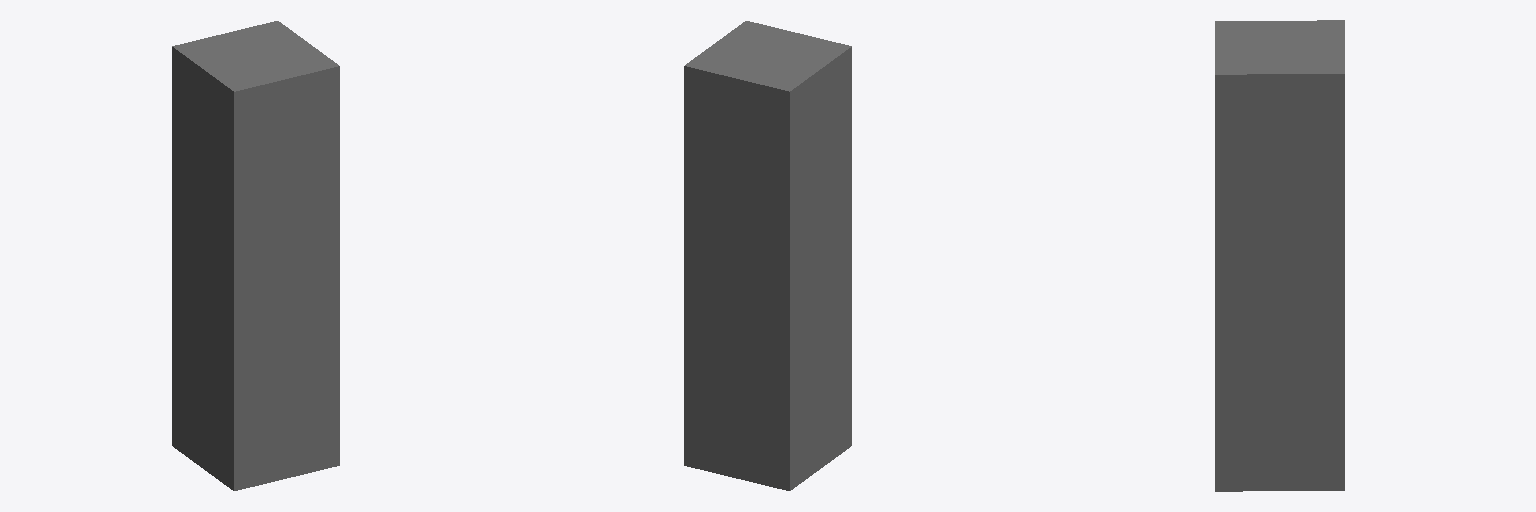
robot.urdf — d435:
<?xml version="1.0" ?>
<!-- =================================================================================== -->
<!-- |    This document was autogenerated by xacro from xacro/ur10_robot.urdf.xacro    | -->
<!-- |    EDITING THIS FILE BY HAND IS NOT RECOMMENDED                                 | -->
<!-- =================================================================================== -->
<robot name="d435">
  <material name="aluminum">
    <color rgba="0.5 0.5 0.5 1"/>
  </material>
  <link name="world"/>
  <!-- camera body, with origin at bottom screw mount -->
  <joint name="d435_joint" type="fixed">
    <origin rpy="-1.57 0 0" xyz="0.06 -0.01 0.0"/>
    <parent link="world"/>
    <child link="d435_bottom_screw_frame"/>
  </joint>
  <link name="d435_bottom_screw_frame">
    <inertial>
      <origin rpy="0 0 0" xyz="0 0 0"/>
      <mass value="0.001"/>
      <inertia ixx="1E-5" ixy="0" ixz="0" iyy="1E-5" iyz="-0" izz="1E-5"/>
    </inertial>
  </link>
  <joint name="d435_link_joint" type="fixed">
    <origin rpy="0 0 0" xyz="0 0.0175 0.0125"/>
    <parent link="d435_bottom_screw_frame"/>
    <child link="d435_link"/>
  </joint>
  <link name="d435_link">
    <visual>
      <origin rpy="1.5707963267948966 0 1.5707963267948966" xyz="0.0149 -0.0175 0"/>
      <geometry>
        <mesh filename="package://realsense2/visual/d435.dae"/>
      </geometry>
      <material name="aluminum"/>
    </visual>
    <collision>
      <origin rpy="0 0 0" xyz="0 -0.0175 0"/>
      <geometry>
        <box size="0.02505 0.09 0.025"/>
      </geometry>
    </collision>
    <inertial>
      <!-- The following are not reliable values, and should not be used for modeling -->
      <mass value="0.564"/>
      <origin xyz="0 0 0"/>
      <inertia ixx="0.003881243" ixy="0.0" ixz="0.0" iyy="0.000498940" iyz="0.0" izz="0.003879257"/>
    </inertial>
  </link>
  <!-- camera depth joints and links -->
  <joint name="d435_depth_joint" type="fixed">
    <origin rpy="0 0 0" xyz="0 0 0"/>
    <parent link="d435_link"/>
    <child link="d435_depth_frame"/>
  </joint>
  <link name="d435_depth_frame">
    <inertial>
      <origin rpy="0 0 0" xyz="0 0 0"/>
      <mass value="0.001"/>
      <inertia ixx="1E-5" ixy="0" ixz="0" iyy="1E-5" iyz="-0" izz="1E-5"/>
    </inertial>
  </link>
  <!-- camera color joints and links -->
  <joint name="d435_color_joint" type="fixed">
    <origin rpy="0 0 0" xyz="0 0.015 0"/>
    <parent link="d435_depth_frame"/>
    <child link="d435_color_frame"/>
  </joint>
  <link name="d435_color_frame">
    <inertial>
      <origin rpy="0 0 0" xyz="0 0 0"/>
      <mass value="0.001"/>
      <inertia ixx="1E-5" ixy="0" ixz="0" iyy="1E-5" iyz="-0" izz="1E-5"/>
    </inertial>
  </link>
</robot>

--- What the picture shows (computed from the rendered views, not written in the file) ---
The picture shows the robot from 3 angles, left to right: view 1: azimuth 30°, elevation 25°; view 2: azimuth 150°, elevation 25°; view 3: azimuth 270°, elevation 25°; orthographic projection.
Model d435 with 5 links and 4 joints (4 fixed), rooted at world, posed all joints at 0.
Links seen in each view (by area): view 1: d435_link; view 2: d435_link; view 3: d435_link.
Link boxes in pixels (left/top/right/bottom): d435_link: left=172, top=21, right=339, bottom=490; d435_link: left=684, top=21, right=851, bottom=490; d435_link: left=1215, top=20, right=1344, bottom=491.
Size in the robot's own frame: 0.0251 by 0.0255 by 0.0904 metres.
1 mesh visuals loaded from 1 distinct referenced files (1 Collada DAE).